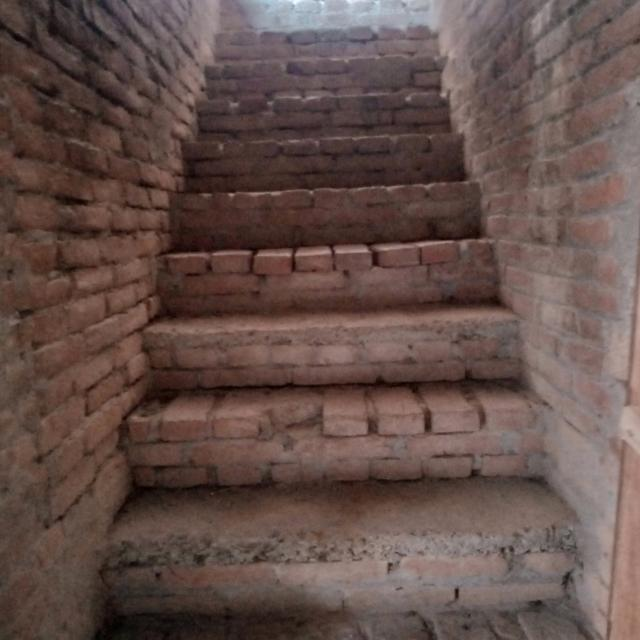Stairs: (160, 0, 572, 597)
